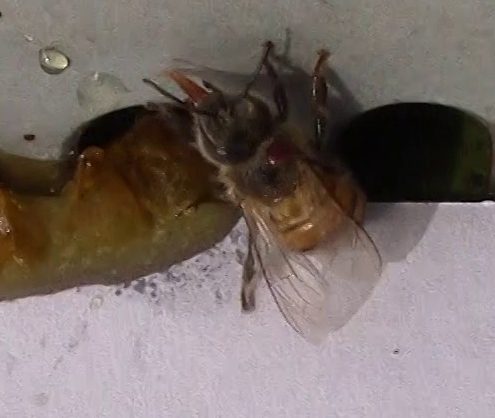Varroa destructor: (262, 136, 299, 168)
